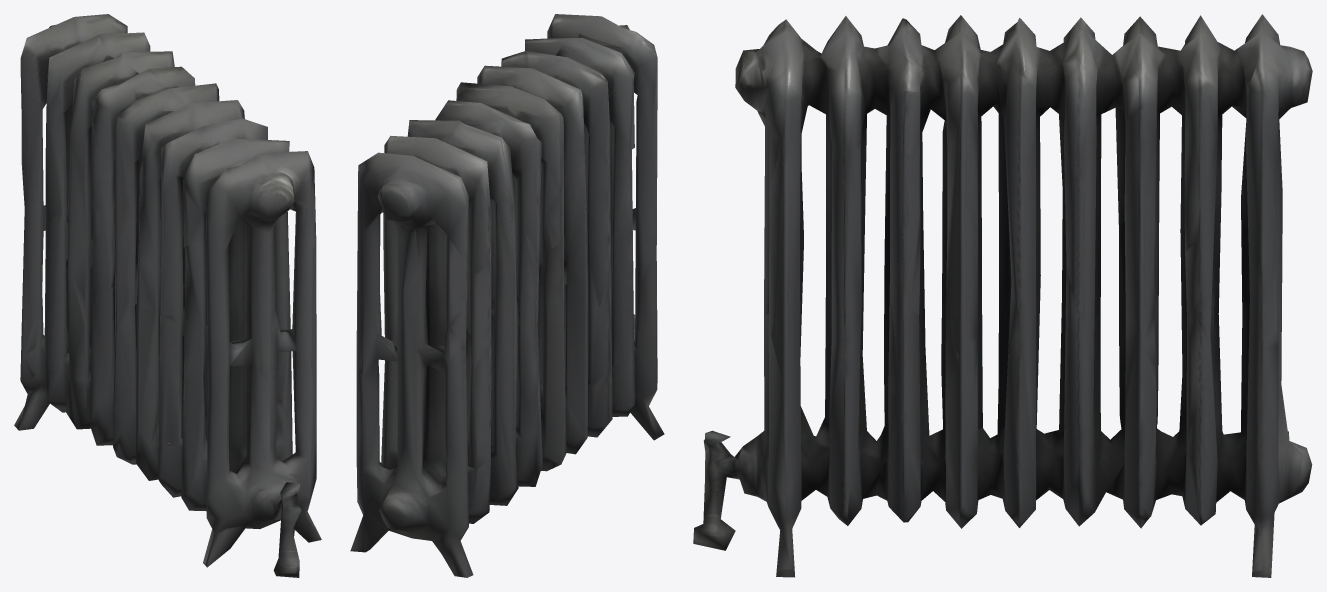
Rendered from metal+radiator+3d+model.glb.
3 views of the same model, side by side, from view 1: azimuth 30°, elevation 25°; view 2: azimuth 150°, elevation 25°; view 3: azimuth 270°, elevation 25° (orthographic). The views are drawn at different scales.
Visible parts, largest first — view 1: tripo_node_30464843-105a-4c8e-94e5-36113f21ff0f; view 2: tripo_node_30464843-105a-4c8e-94e5-36113f21ff0f; view 3: tripo_node_30464843-105a-4c8e-94e5-36113f21ff0f.
Boxes of the visible parts, x1,y1,x2,y2 form: tripo_node_30464843-105a-4c8e-94e5-36113f21ff0f: [14, 14, 321, 577]; tripo_node_30464843-105a-4c8e-94e5-36113f21ff0f: [350, 14, 664, 577]; tripo_node_30464843-105a-4c8e-94e5-36113f21ff0f: [693, 14, 1312, 577].
Size of the model in its own units: 0.2748 by 0.9106 by 1.
1 material, 1 textured.
